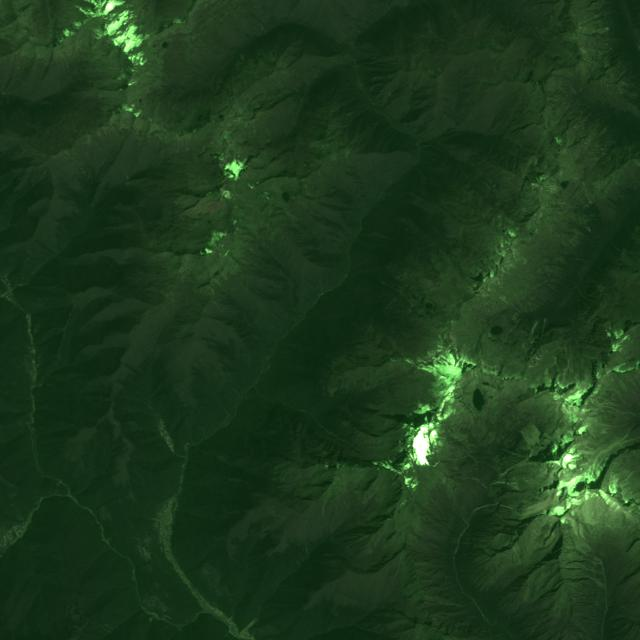landslides: (600, 387, 629, 408), (525, 321, 538, 347), (502, 448, 528, 461), (583, 575, 605, 589), (462, 477, 487, 489), (217, 399, 231, 418), (79, 168, 90, 179), (99, 625, 111, 634)
